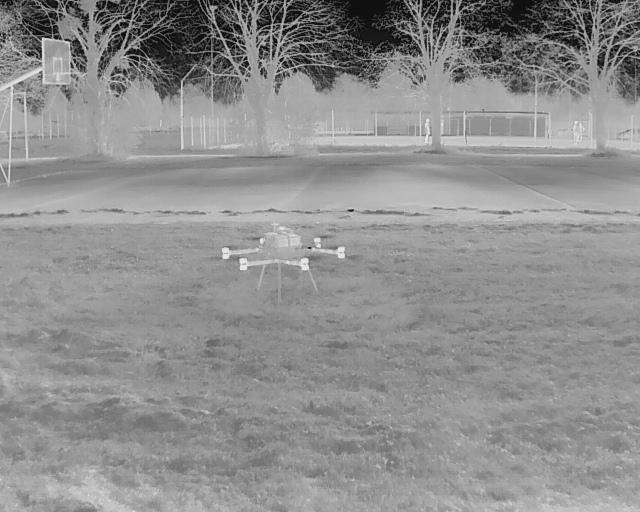drone: (201, 215, 365, 311)
